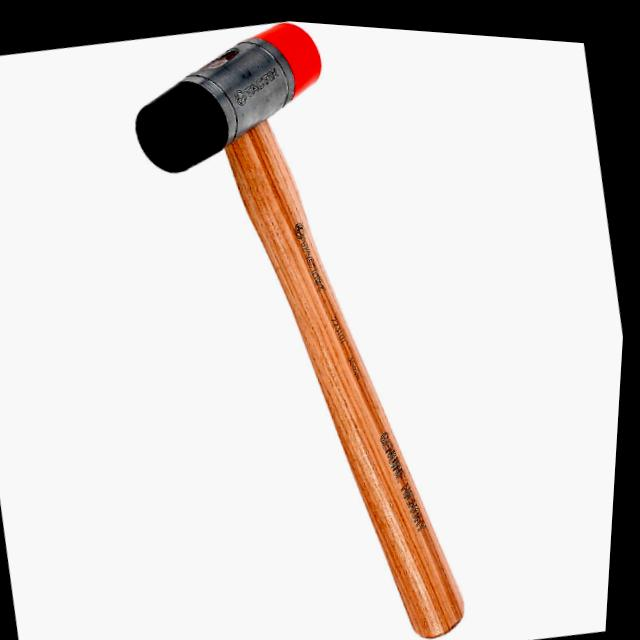hammer: (85, 7, 517, 640)
